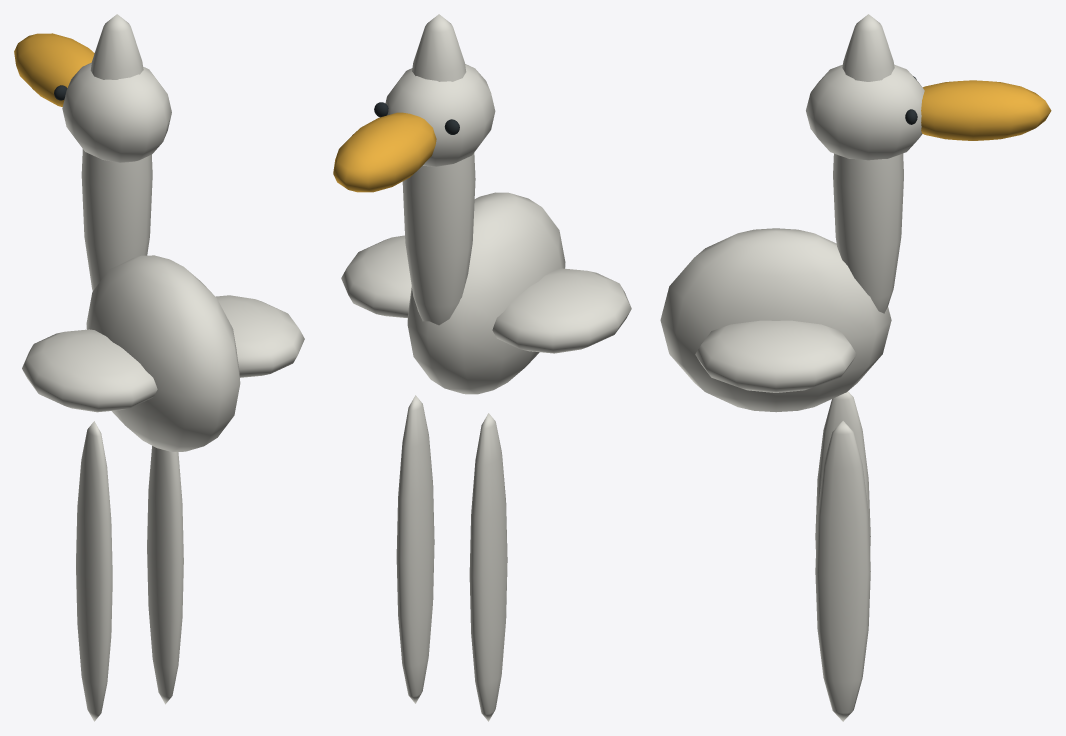
Rendered from animal_crane.glb.
3 views of the same model, side by side, from view 1: azimuth 30°, elevation 25°; view 2: azimuth 150°, elevation 25°; view 3: azimuth 270°, elevation 25° (orthographic). The views are drawn at different scales.
Visible parts, largest first — view 1: Body, LegFL, LegFR; view 2: Body, LegFL, LegFR; view 3: Body, LegFR, LegFL.
Part boxes in pixels (box(x1,y1,x2,y2)): Body: box(14, 14, 304, 451); LegFL: box(76, 421, 112, 721); LegFR: box(147, 446, 183, 704); Body: box(333, 14, 631, 394); LegFL: box(469, 413, 507, 721); LegFR: box(396, 395, 434, 703); Body: box(660, 14, 1051, 412); LegFR: box(815, 421, 870, 721); LegFL: box(815, 391, 870, 552).
Size of the model in its own units: 0.84 by 2.14 by 1.1.
